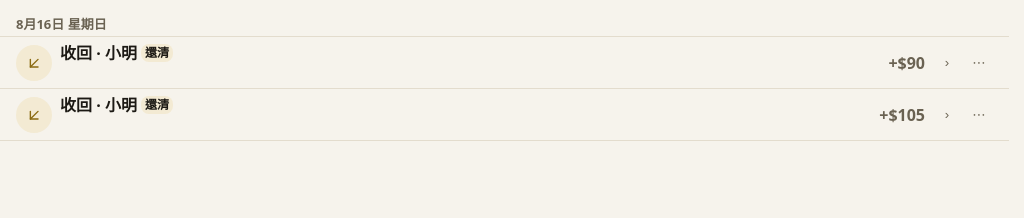
Test: TransactionList › shows the actual repayment amount and expands the cleared amount and difference
The width and height of the screenshot is (1024, 218).
Expected: the text "還清" in the row of "+$90" is shown, left=145, top=44, right=169, bottom=61
Expected: the list item "收回 · 小明 還清 +$90 › ⋯" is shown, left=0, top=37, right=1009, bottom=89
What coordinates should you click on to do the following:
click the button named "展開細項"
I would click on:
 (947, 63)
Its box is left=933, top=49, right=961, bottom=77.
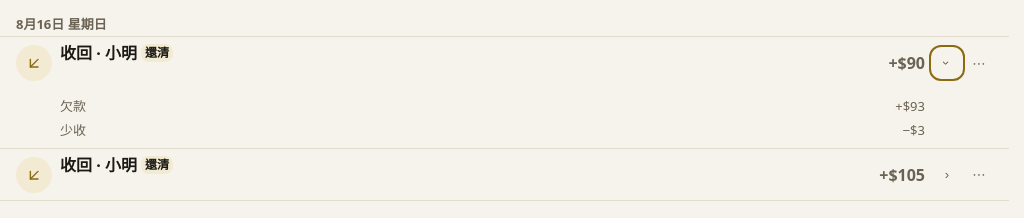
Expected: the text "欠款" is shown, left=60, top=97, right=86, bottom=115
Expected: the text "+$93" is shown, left=895, top=97, right=925, bottom=115
Expected: the text "少收" is shown, left=60, top=121, right=86, bottom=139
What coordinates should you click on to do the following:
click the button named "展開細項"
I would click on:
 (947, 175)
Its box is left=933, top=161, right=961, bottom=189.
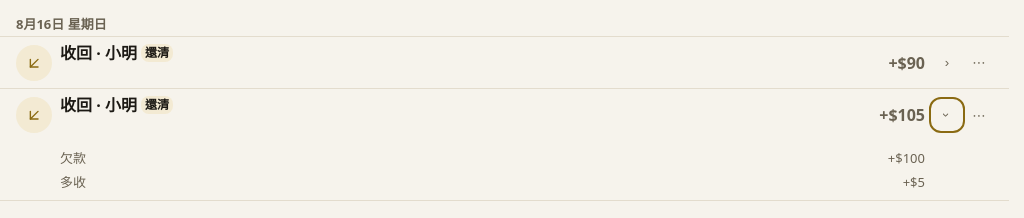
Expected: the text "欠款" is shown, left=60, top=149, right=86, bottom=167
Expected: the text "+$100" is shown, left=888, top=149, right=925, bottom=167
Expected: the text "多收" is shown, left=60, top=173, right=86, bottom=191
